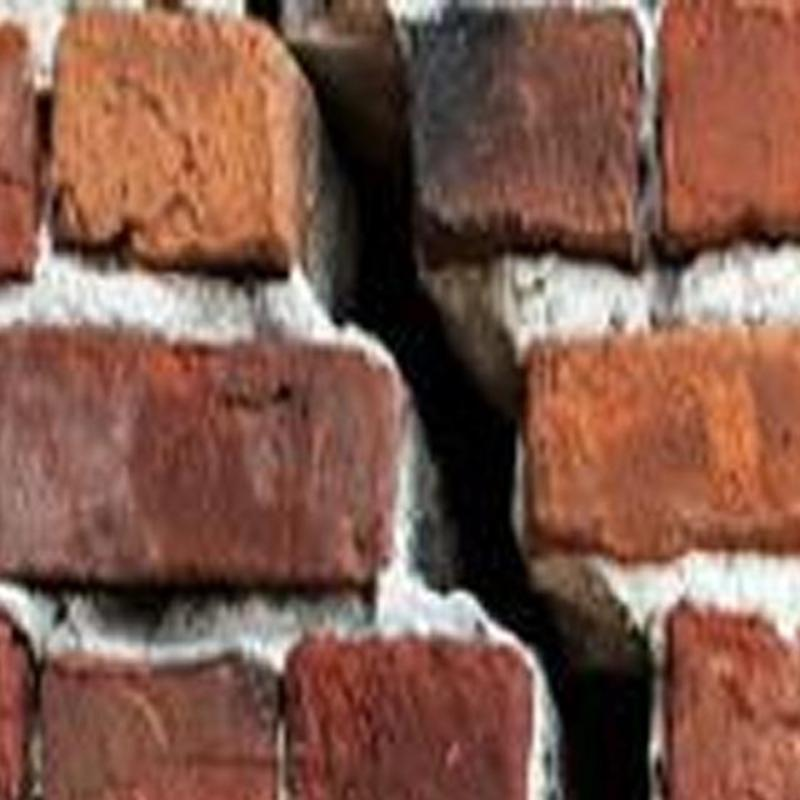pothole: (249, 0, 652, 800)
